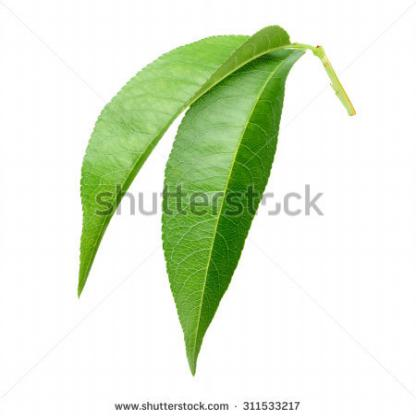peach leaf: (69, 27, 285, 302), (161, 51, 298, 384)
